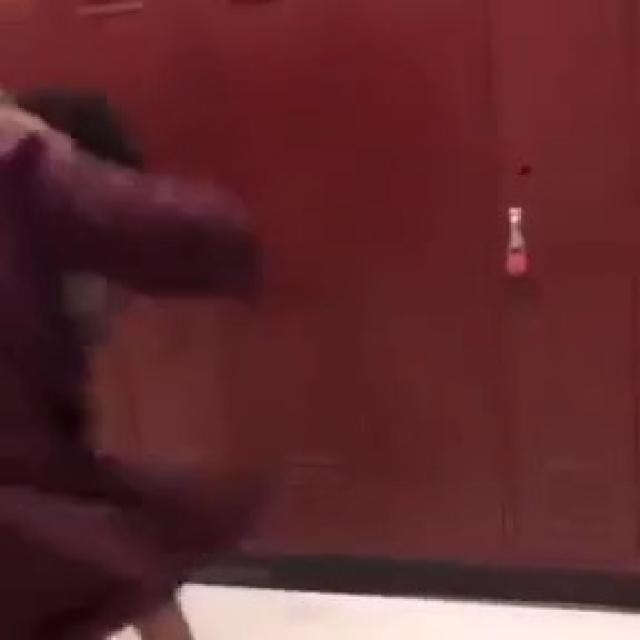fight: (0, 50, 292, 640)
